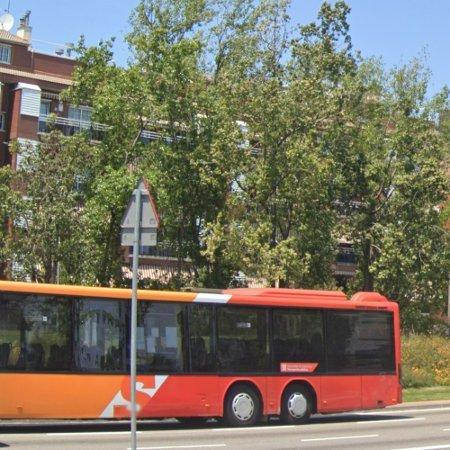buses: (0, 282, 131, 419)
